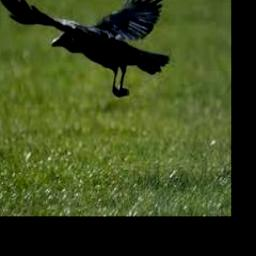Crow: (0, 0, 171, 97)
